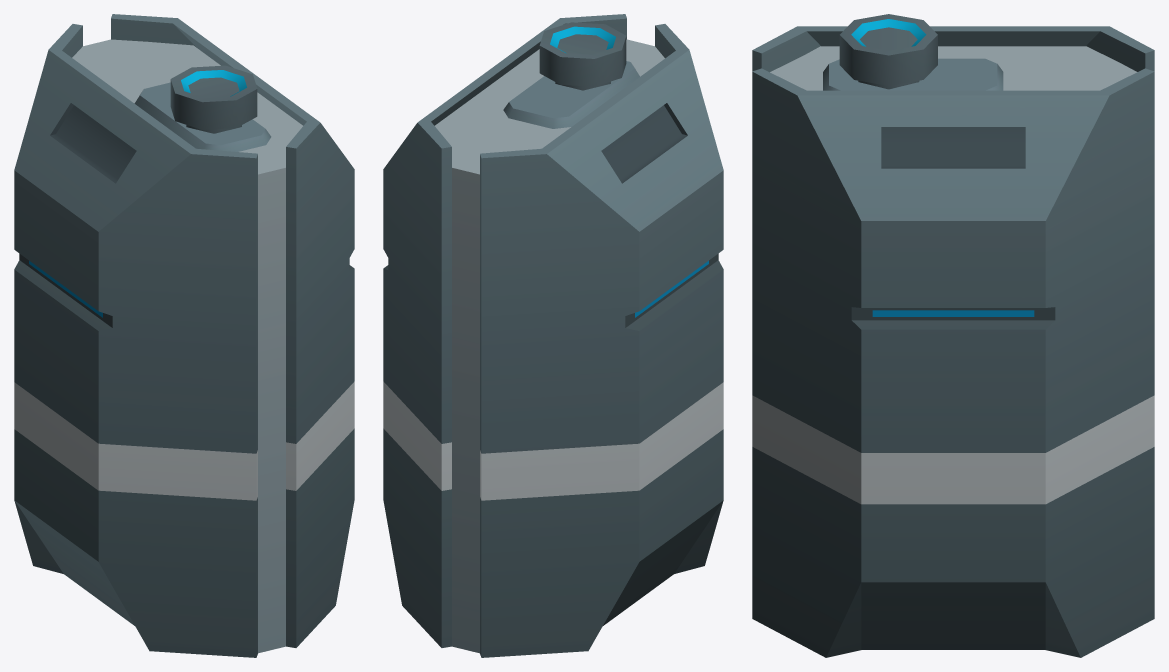
File: Gas_can_003.fbx
3 renders of one model, left to right at view 1: azimuth 30°, elevation 25°; view 2: azimuth 150°, elevation 25°; view 3: azimuth 270°, elevation 25°, orthographic. The views are drawn at different scales.
Visible parts, largest first — view 1: Gas_can_003; view 2: Gas_can_003; view 3: Gas_can_003.
Boxes of the visible parts, x1,y1,x2,y2 form: Gas_can_003: (14, 14, 354, 657); Gas_can_003: (383, 14, 723, 657); Gas_can_003: (752, 14, 1154, 657).
Size of the model in its own units: 32.19 by 40 by 62.86.
